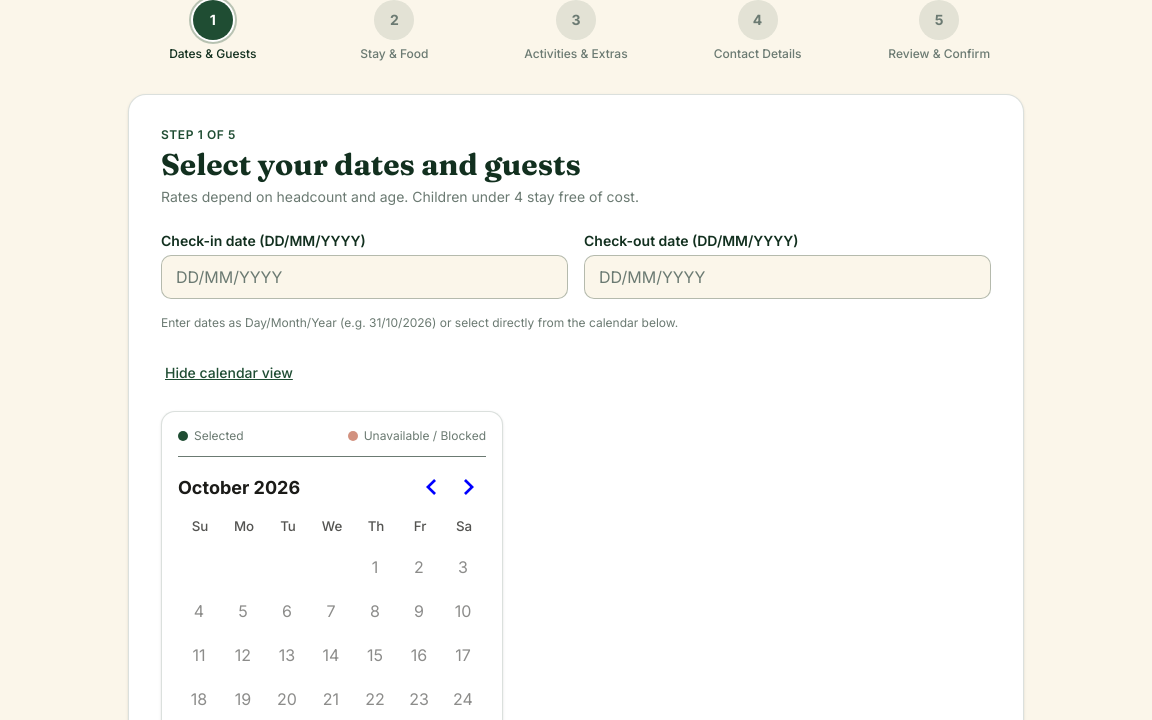
Scenario: BookingFlow accessible stepper & jest-axe › Step 3 (Activities and extras) passes axe accessibility checks
The width and height of the screenshot is (1152, 720).
In the field labelled "Check-in date (DD/MM/YYYY)": (364, 277) [161,255,568,299], type "20/11/2026"
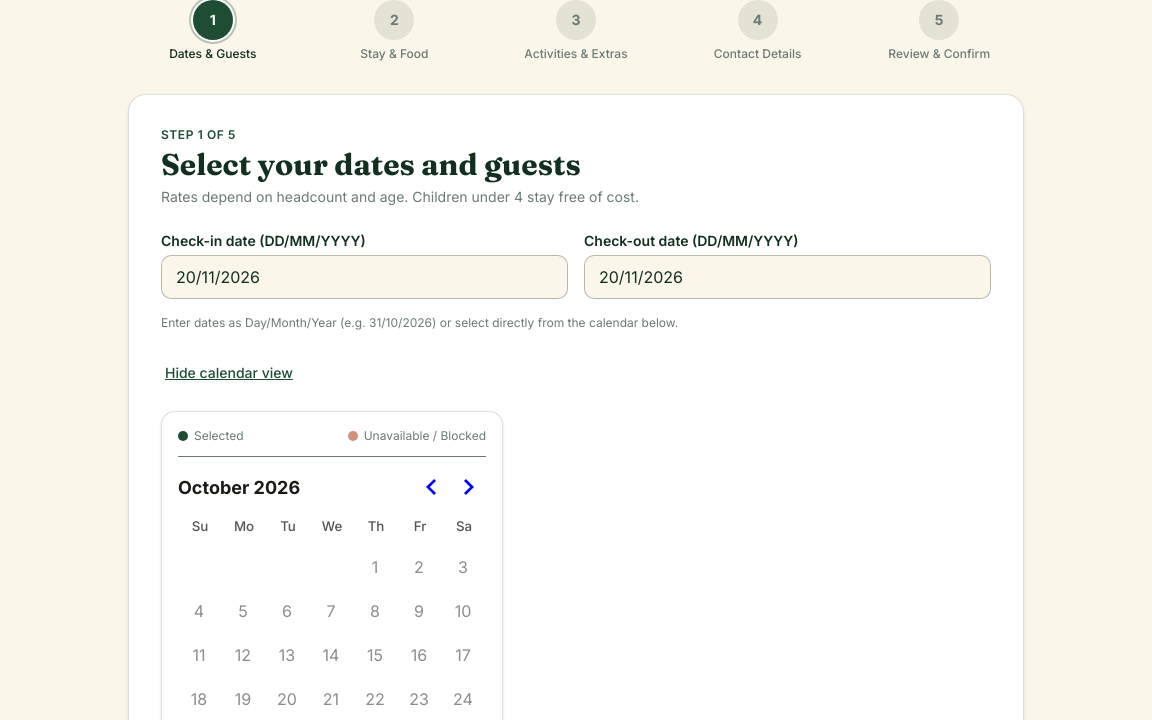
Replace the text in the field labelled "Check-out date (DD/MM/YYYY)" with "21/11/2026": (788, 277) [584,255,991,299]
(page scrolled)
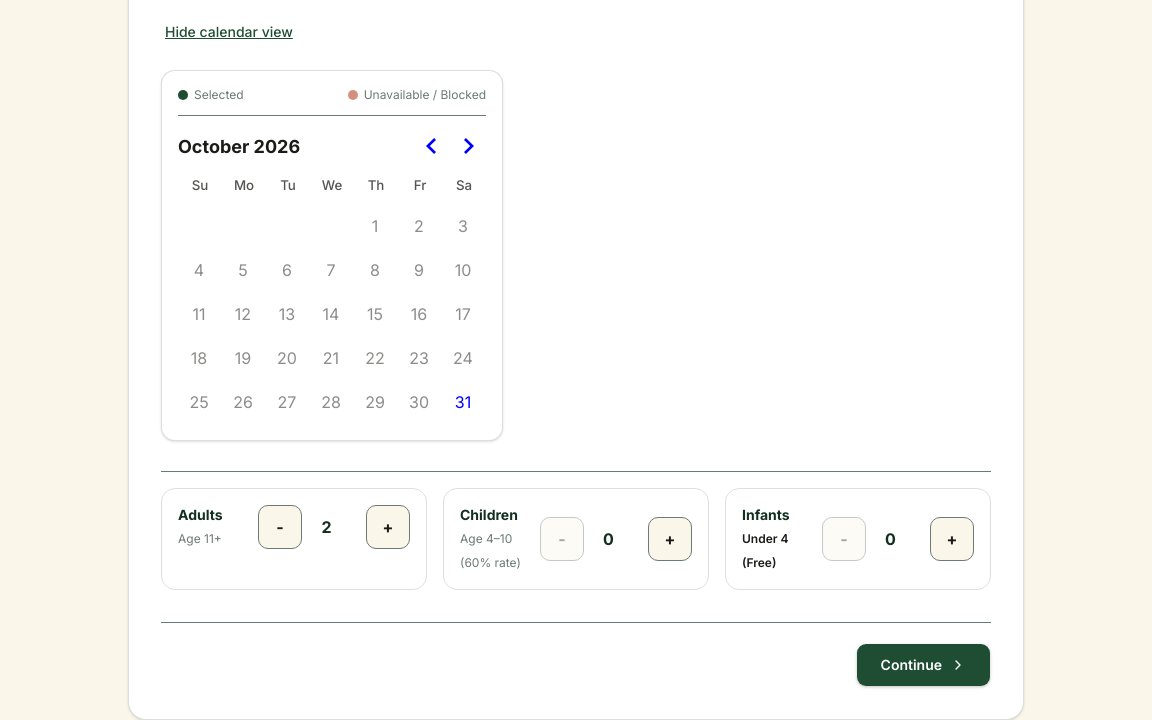
Click the button "Continue": (923, 665) [856,643,991,687]
(page scrolled)
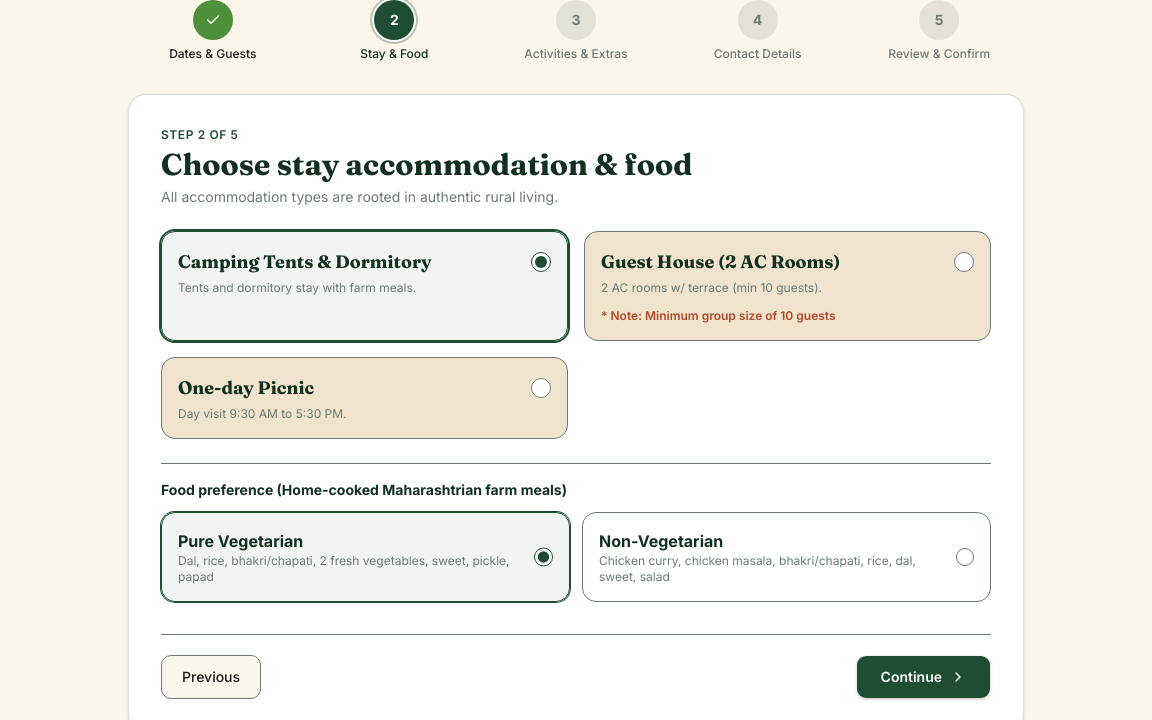
Click the button "Continue": (923, 677) [856,655,991,699]
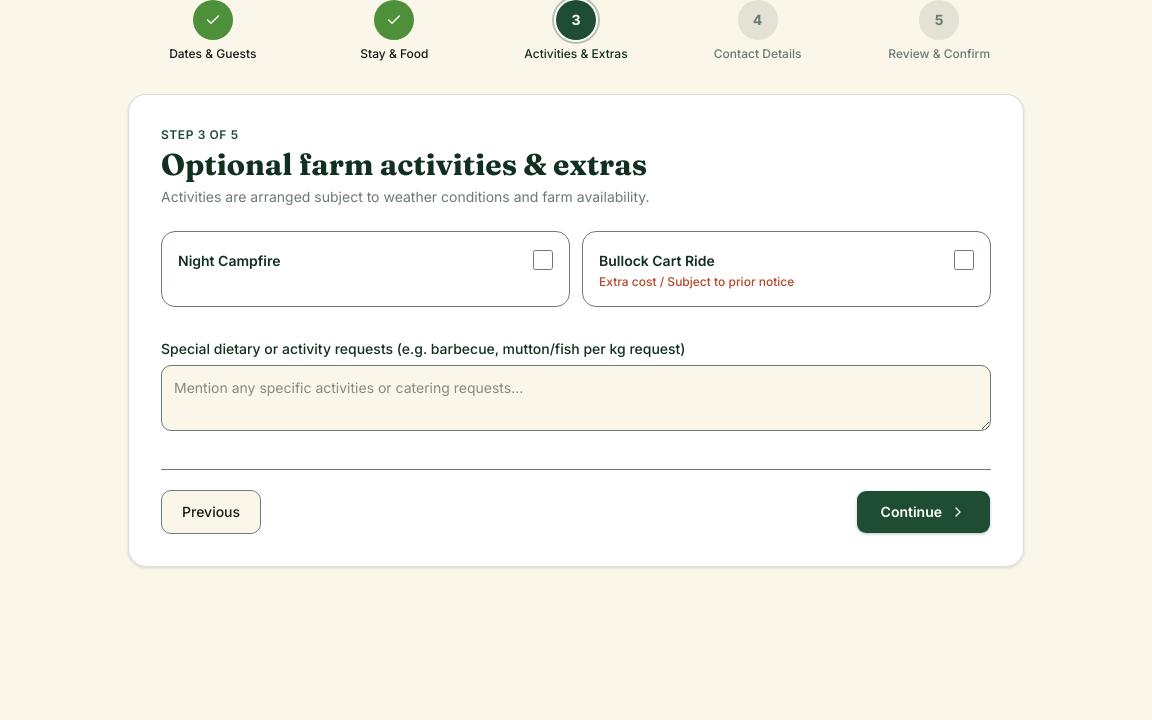
Expected: the list item "3 Activities & Extras" is shown, [524,0,628,61]
Expected: the heading "Optional farm activities & extras" is shown, [161,146,647,183]
